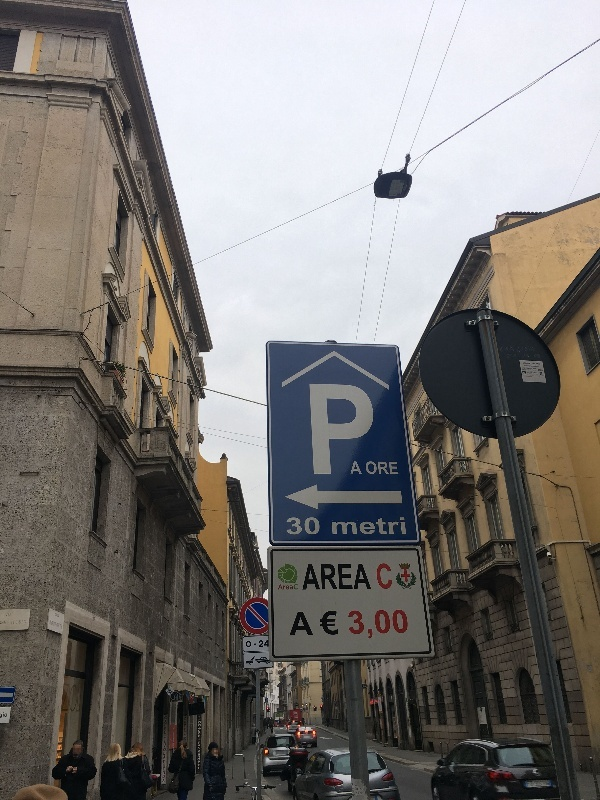text: (321, 383, 336, 476), (337, 383, 352, 476), (353, 383, 368, 476), (309, 383, 320, 476), (369, 383, 379, 476), (164, 737, 176, 783), (353, 607, 368, 641), (369, 607, 384, 641), (385, 607, 400, 641), (321, 609, 336, 638), (65, 683, 80, 712), (321, 563, 336, 590), (337, 563, 352, 590), (353, 563, 368, 590), (308, 563, 320, 590), (305, 517, 321, 537), (289, 517, 304, 537), (337, 517, 352, 537), (353, 517, 368, 537), (369, 517, 384, 537), (385, 517, 400, 537), (305, 610, 315, 638), (198, 742, 208, 770), (401, 607, 409, 641), (375, 562, 384, 591), (385, 562, 394, 591), (513, 345, 528, 362), (529, 363, 544, 379), (369, 461, 384, 476), (385, 461, 399, 476), (500, 345, 512, 362), (529, 345, 541, 362), (165, 716, 176, 734), (297, 610, 304, 638), (353, 462, 368, 475), (184, 717, 192, 741), (199, 719, 208, 738), (347, 607, 352, 641), (353, 783, 363, 797), (50, 620, 64, 629), (401, 517, 407, 537), (259, 639, 272, 648), (1, 712, 16, 719), (331, 517, 336, 537), (522, 363, 528, 379), (289, 583, 299, 592), (279, 583, 288, 592), (369, 563, 372, 590), (246, 641, 256, 649), (170, 691, 176, 702), (177, 691, 183, 702), (337, 609, 339, 638), (365, 461, 368, 476), (55, 613, 64, 618), (286, 517, 288, 537), (6, 613, 16, 617), (319, 609, 320, 638), (81, 683, 82, 712), (254, 643, 256, 646)
